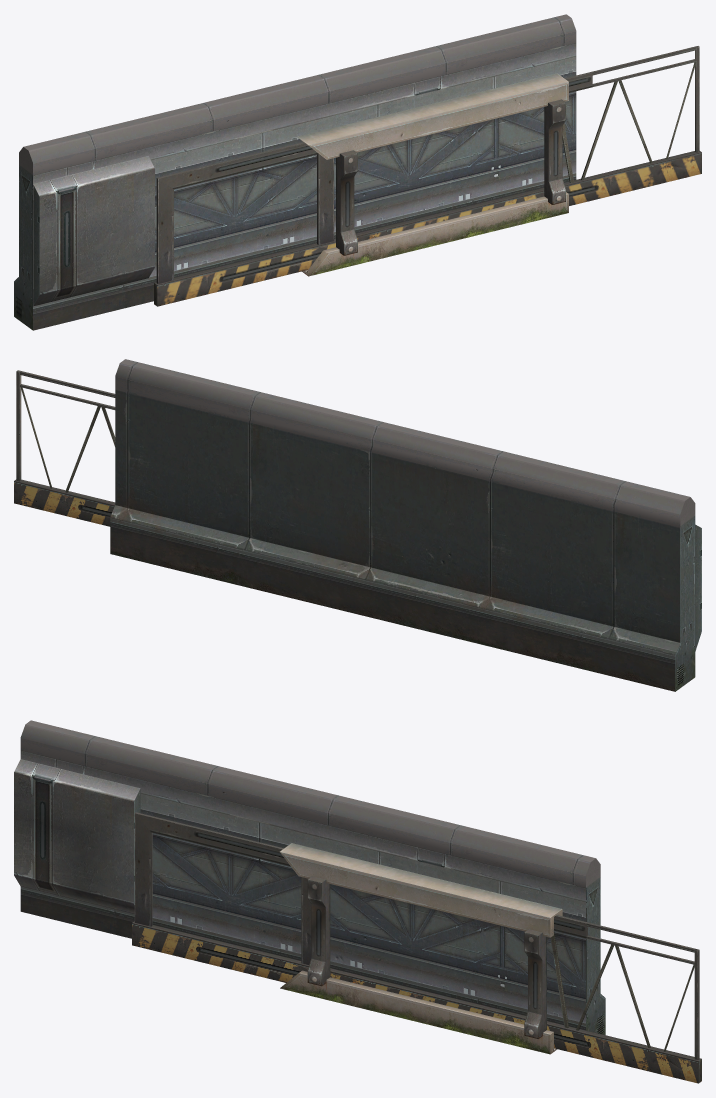
File: Cover_Qiang010.glb
The picture shows the model from 3 angles, top to bottom: view 1: azimuth 30°, elevation 25°; view 2: azimuth 150°, elevation 25°; view 3: azimuth 330°, elevation 25°; orthographic projection. The views are drawn at different scales.
Visible parts, largest first — view 1: xiutz_qiang010; view 2: xiutz_qiang010; view 3: xiutz_qiang010.
Part boxes in pixels (x1,y1,x2,y2): xiutz_qiang010: (14, 14, 701, 330); xiutz_qiang010: (14, 359, 701, 691); xiutz_qiang010: (14, 720, 701, 1083).
Size of the model in its own units: 13.38 by 3.42 by 1.29.
1 material, 1 textured.
